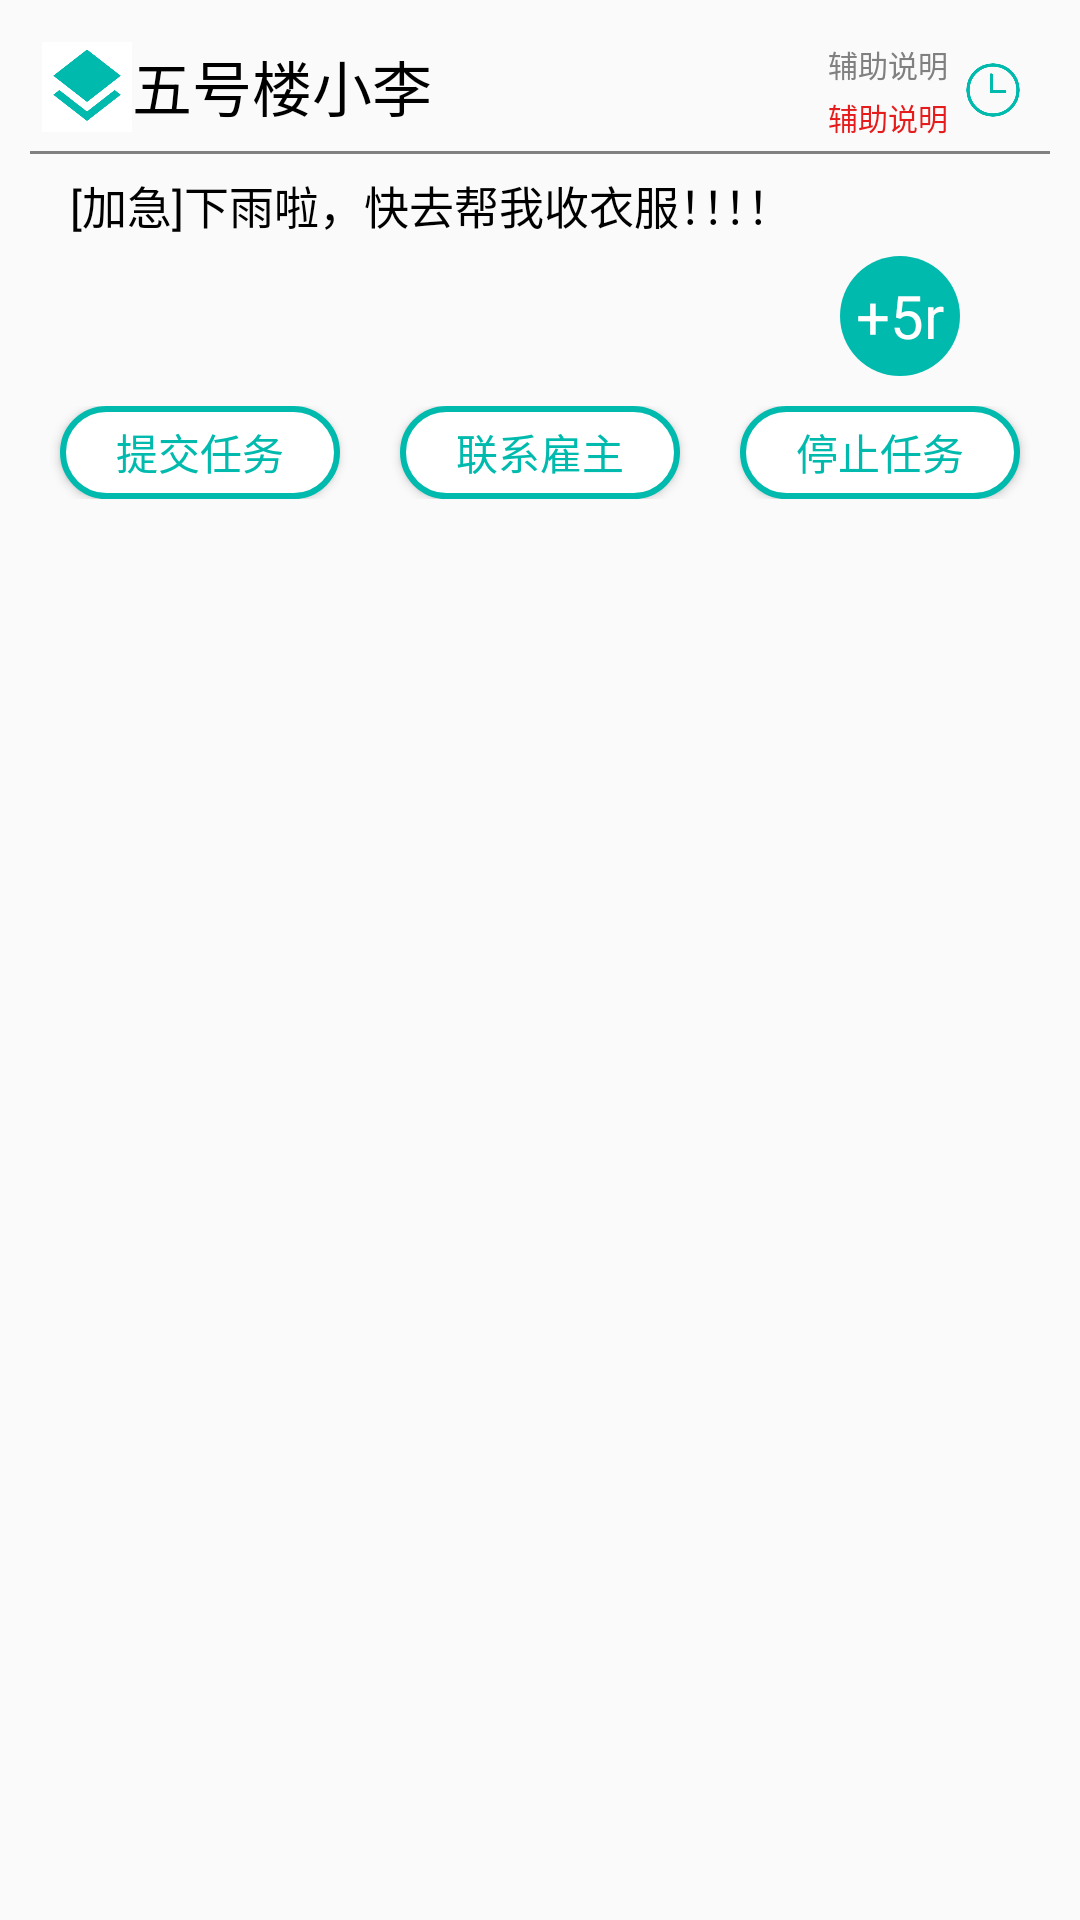

Point at icon controls on the screen. Image size 1080px×1920px, points as [x,y].
clock: [993,90]
